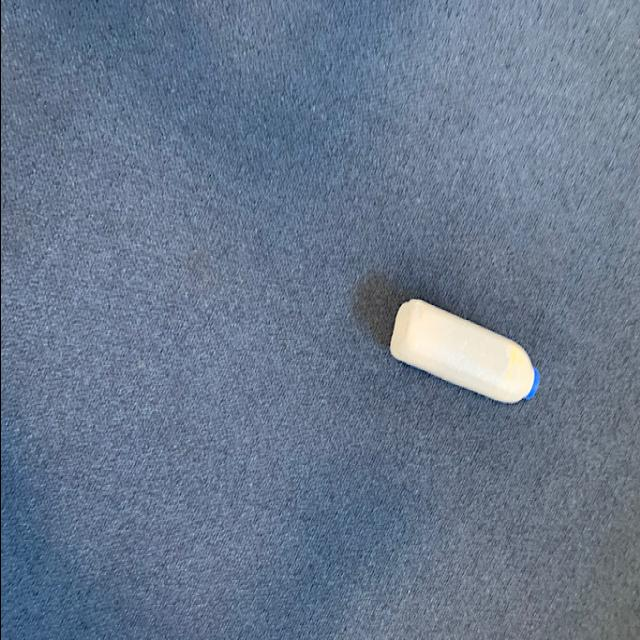HDPEM: (385, 296, 539, 408)
